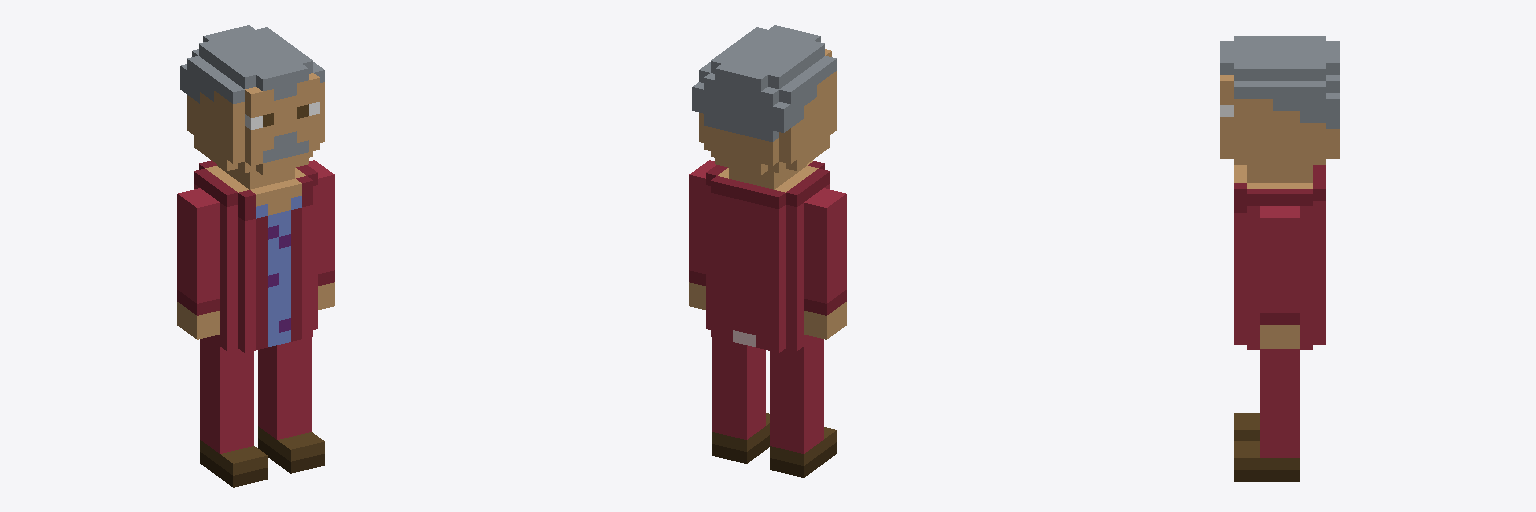
3 renders of one model, left to right at view 1: azimuth 30°, elevation 25°; view 2: azimuth 150°, elevation 25°; view 3: azimuth 270°, elevation 25°, orthographic.
Parts seen in each view (by area): view 1: object 1; view 2: object 1; view 3: object 1.
Boxes of the visible parts, box(x1,y1,x2,y2) form: object 1: box(177, 25, 334, 487); object 1: box(689, 25, 846, 477); object 1: box(1220, 36, 1339, 481).
Size of the model in its own units: 1.2 by 3.4 by 0.9.
Materials: 1 (1 with a texture image).